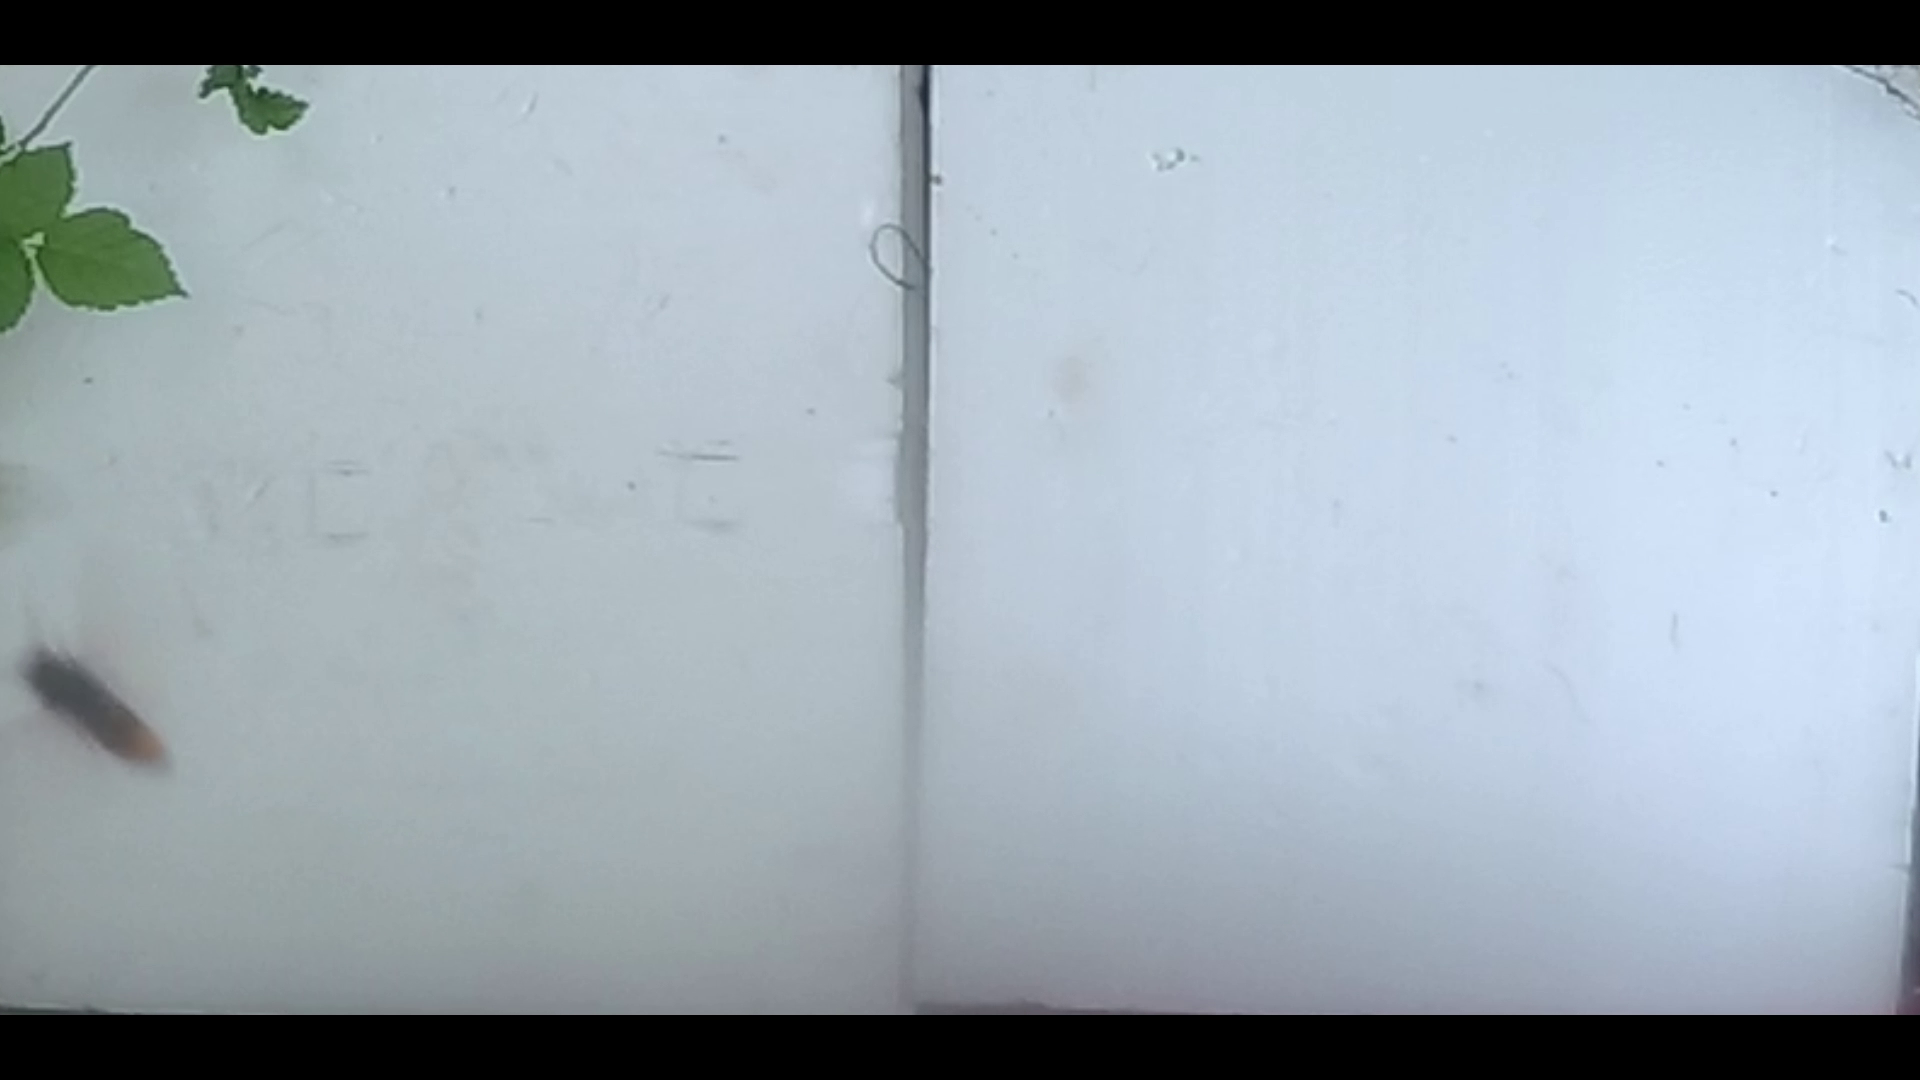Asian_hornets: (1, 607, 186, 790)
